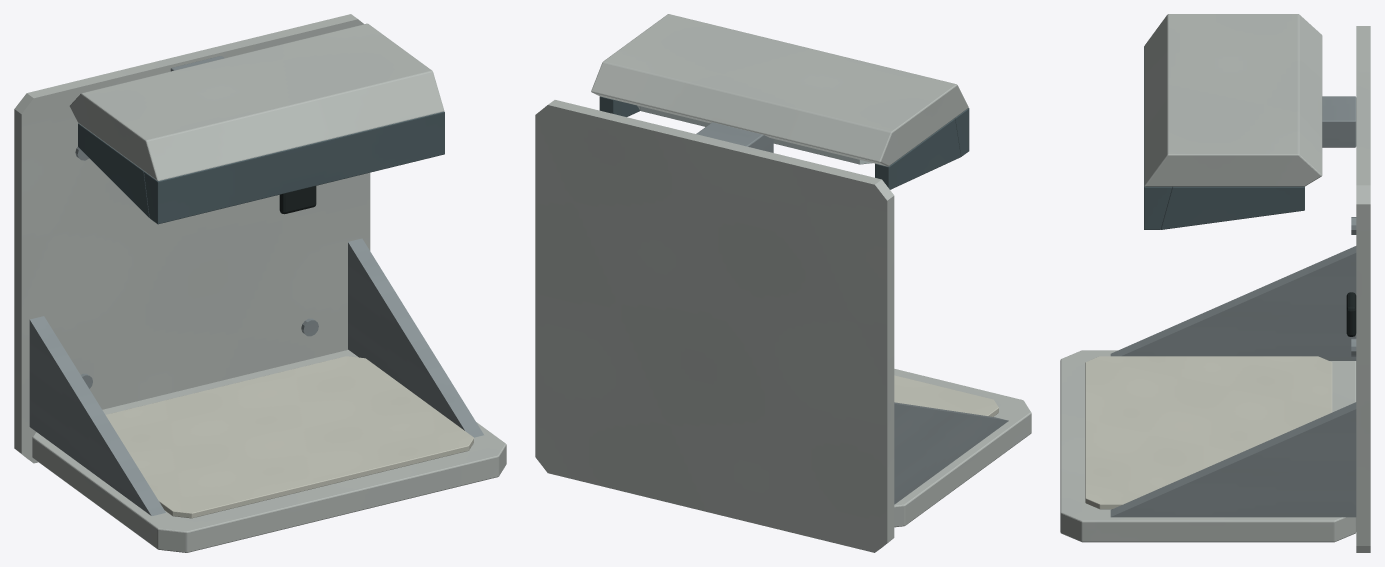
Rendered from AST-CRW-004.glb.
The picture shows the model from 3 angles, left to right: view 1: azimuth 30°, elevation 25°; view 2: azimuth 150°, elevation 25°; view 3: azimuth 270°, elevation 25°; orthographic projection.
Visible parts, largest first — view 1: AST-CRW-004__static__staff_white_paint, AST-CRW-004__static__staff_label, AST-CRW-004__static__staff_zinc, AST-CRW-004__static__staff_bluegrey_paint, AST-CRW-004__static__staff_rubber; view 2: AST-CRW-004__static__staff_white_paint, AST-CRW-004__static__staff_zinc, AST-CRW-004__static__staff_bluegrey_paint, AST-CRW-004__static__staff_label, AST-CRW-004__static__staff_opal; view 3: AST-CRW-004__static__staff_white_paint, AST-CRW-004__static__staff_zinc, AST-CRW-004__static__staff_label, AST-CRW-004__static__staff_bluegrey_paint, AST-CRW-004__static__staff_rubber.
Part boxes in pixels (x1,y1,x2,y2): AST-CRW-004__static__staff_white_paint: (14,14,506,552); AST-CRW-004__static__staff_label: (105,356,473,518); AST-CRW-004__static__staff_zinc: (29,56,483,515); AST-CRW-004__static__staff_bluegrey_paint: (78,111,444,224); AST-CRW-004__static__staff_rubber: (279,186,316,214); AST-CRW-004__static__staff_white_paint: (535,14,1031,552); AST-CRW-004__static__staff_zinc: (696,122,1008,504); AST-CRW-004__static__staff_bluegrey_paint: (599,96,969,189); AST-CRW-004__static__staff_label: (894,375,998,416); AST-CRW-004__static__staff_opal: (637,105,872,164); AST-CRW-004__static__staff_white_paint: (1060,14,1370,552); AST-CRW-004__static__staff_zinc: (1110,96,1356,517); AST-CRW-004__static__staff_label: (1085,356,1332,509); AST-CRW-004__static__staff_bluegrey_paint: (1144,46,1304,229); AST-CRW-004__static__staff_rubber: (1346,292,1356,336).
Size of the model in its own units: 0.34 by 0.36 by 0.26.
6 materials, 6 textured.
